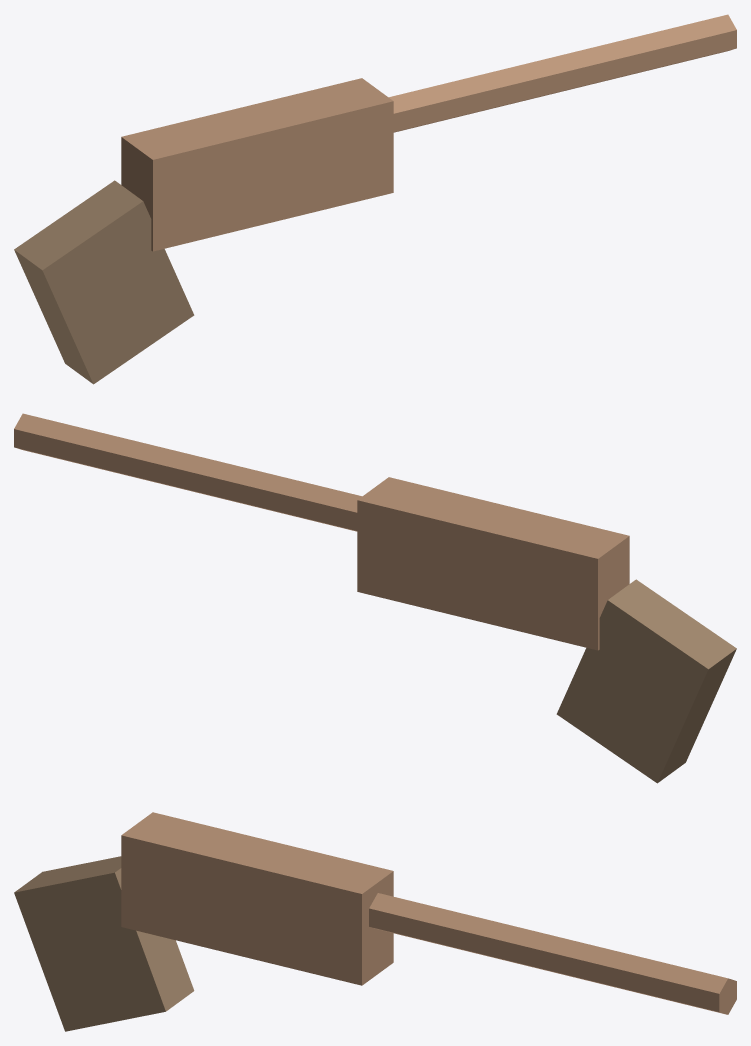
File: held_weapon_waterpipe.glb
3 renders of one model, top to bottom at view 1: azimuth 30°, elevation 25°; view 2: azimuth 150°, elevation 25°; view 3: azimuth 330°, elevation 25°, orthographic.
Visible parts, largest first — view 1: held_weapon_waterpipe; view 2: held_weapon_waterpipe; view 3: held_weapon_waterpipe.
Boxes of the visible parts, <box> form: held_weapon_waterpipe: <box>14,14,736,384</box>; held_weapon_waterpipe: <box>14,413,736,783</box>; held_weapon_waterpipe: <box>14,812,736,1031</box>.
Bounding box in the file's own units: 0.6394 × 0.1847 × 0.05.
